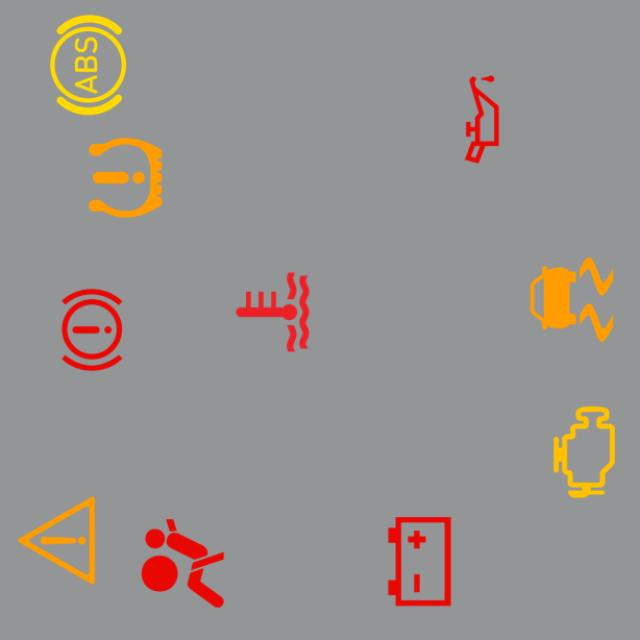Anti Lock Braking System: (33, 10, 143, 120)
Braking System Issue: (37, 275, 147, 385)
Charging System Issue: (365, 507, 474, 616)
Check Engine: (529, 397, 639, 507)
Electronic Stability Problem -ESP-: (517, 245, 626, 354)
Engine Overheating Warning Light: (218, 257, 327, 367)
Low Engine Oil Warning Light: (427, 65, 537, 174)
Low Tire Pressure Warning Light: (71, 123, 180, 232)
Master warning light: (2, 486, 112, 595)
SRS-Airbag: (128, 509, 238, 618)
